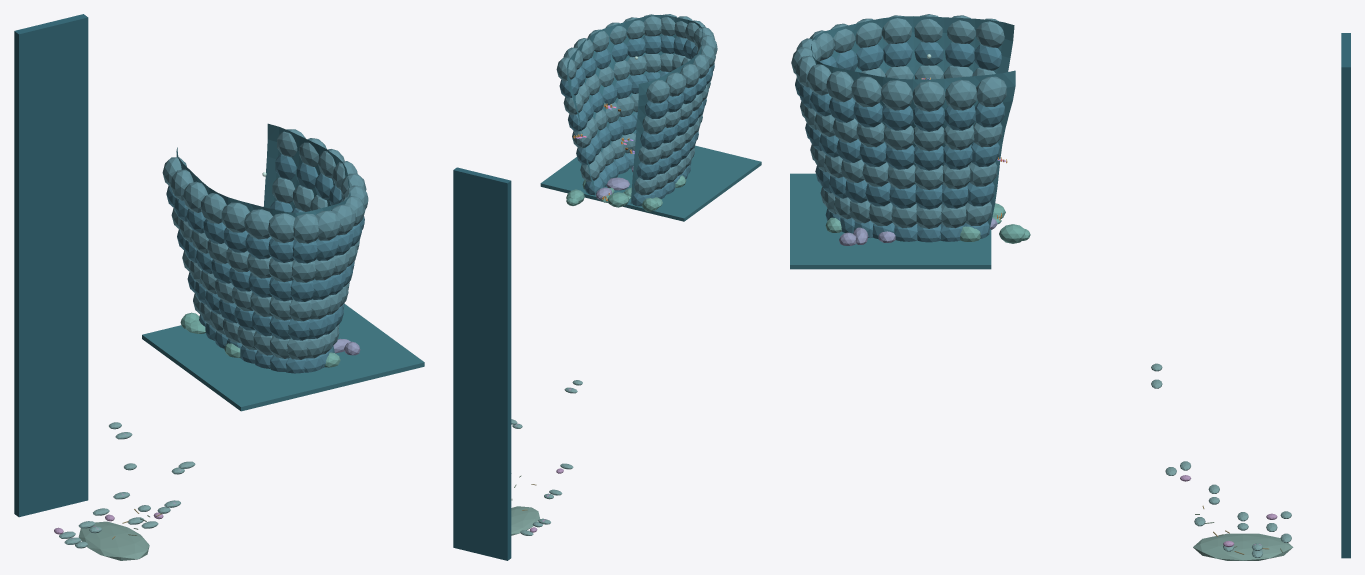
The model's file is shell.glb.
The picture shows the model from 3 angles, left to right: view 1: azimuth 30°, elevation 25°; view 2: azimuth 150°, elevation 25°; view 3: azimuth 270°, elevation 25°; orthographic projection. The views are drawn at different scales.
Parts seen in each view (by area): view 1: shell; view 2: shell; view 3: shell.
Part boxes in pixels (<box>): shell: <box>14,14,424,560</box>; shell: <box>453,14,761,560</box>; shell: <box>790,14,1350,560</box>.
Bounding box in the file's own units: 90 × 232 × 234.
